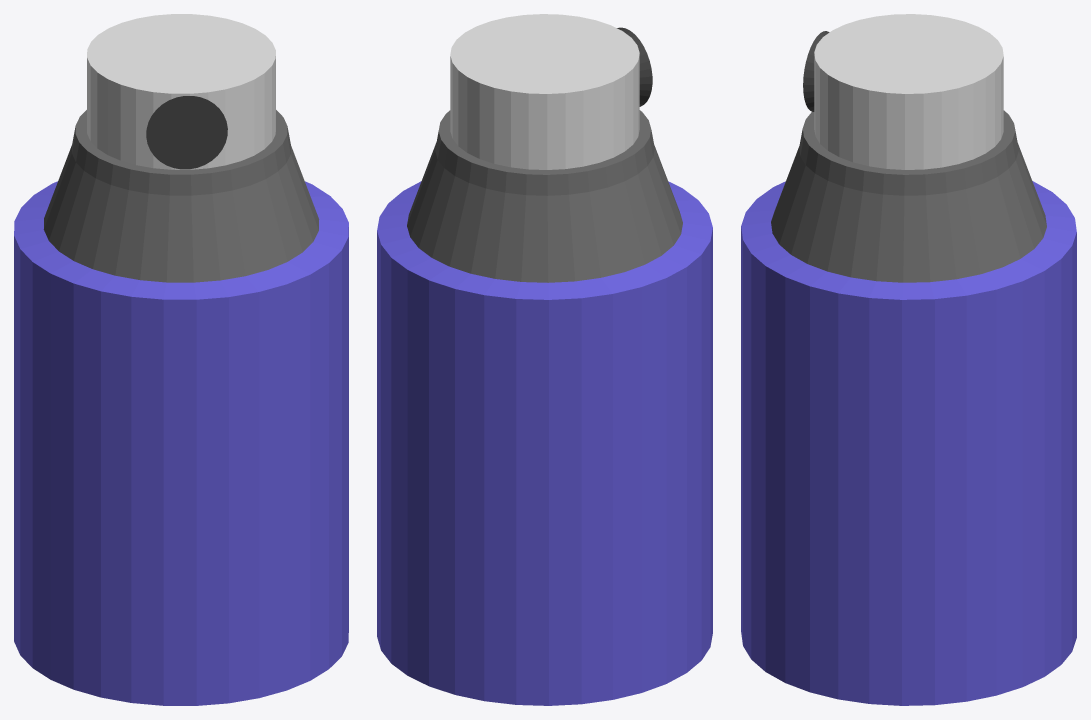
File: Spray.fbx
3 views of the same model, side by side, from view 1: azimuth 30°, elevation 25°; view 2: azimuth 150°, elevation 25°; view 3: azimuth 270°, elevation 25° (orthographic).
Visible parts, largest first — view 1: Cylinder, Cone; view 2: Cylinder, Cone; view 3: Cylinder, Cone.
Part boxes in pixels (left/top/right/bottom): Cylinder: left=14, top=14, right=348, bottom=705; Cone: left=146, top=96, right=227, bottom=169; Cylinder: left=377, top=14, right=712, bottom=705; Cone: left=617, top=27, right=652, bottom=106; Cylinder: left=741, top=14, right=1076, bottom=705; Cone: left=803, top=31, right=829, bottom=111.
Bounding box in the file's own units: 356 × 680 × 356.
